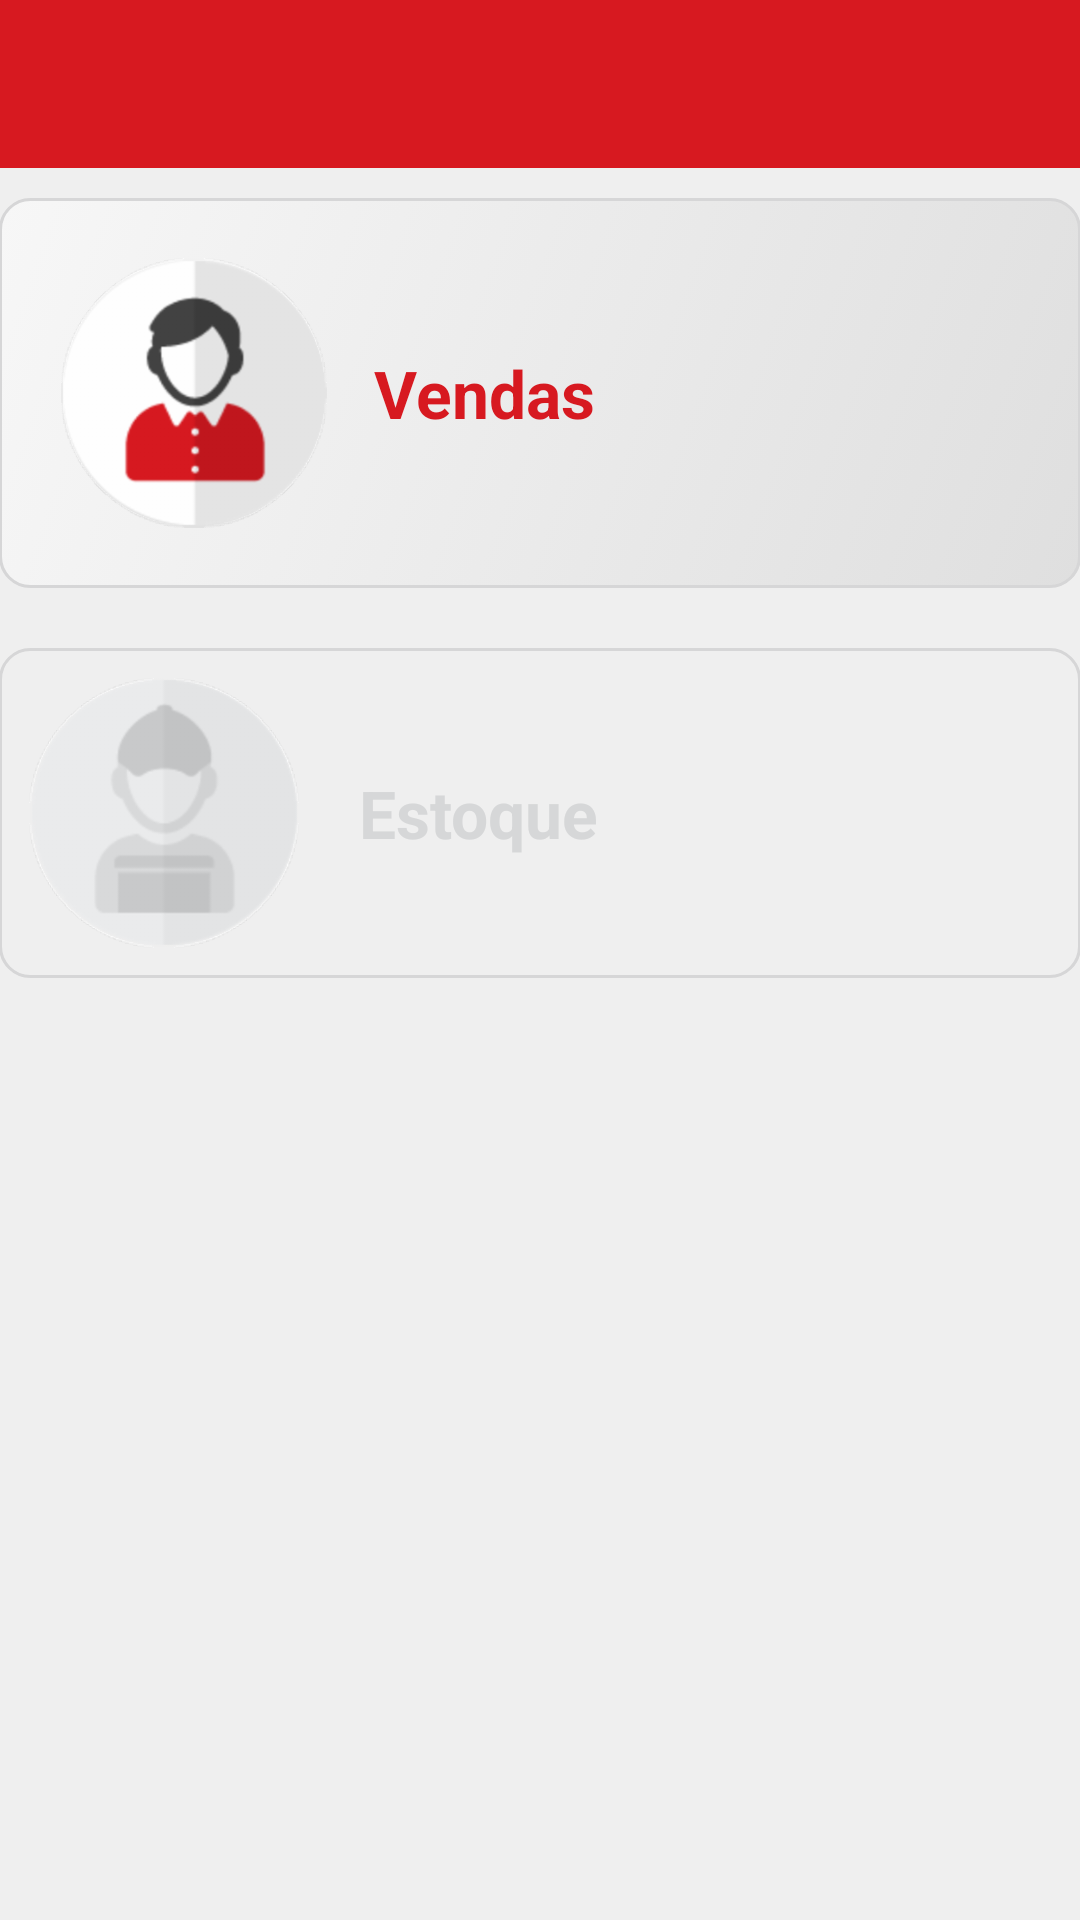

Point at icon controls on the screen. Image size 1080 x 1920, points as (x,y).
venda on: (195,389)
